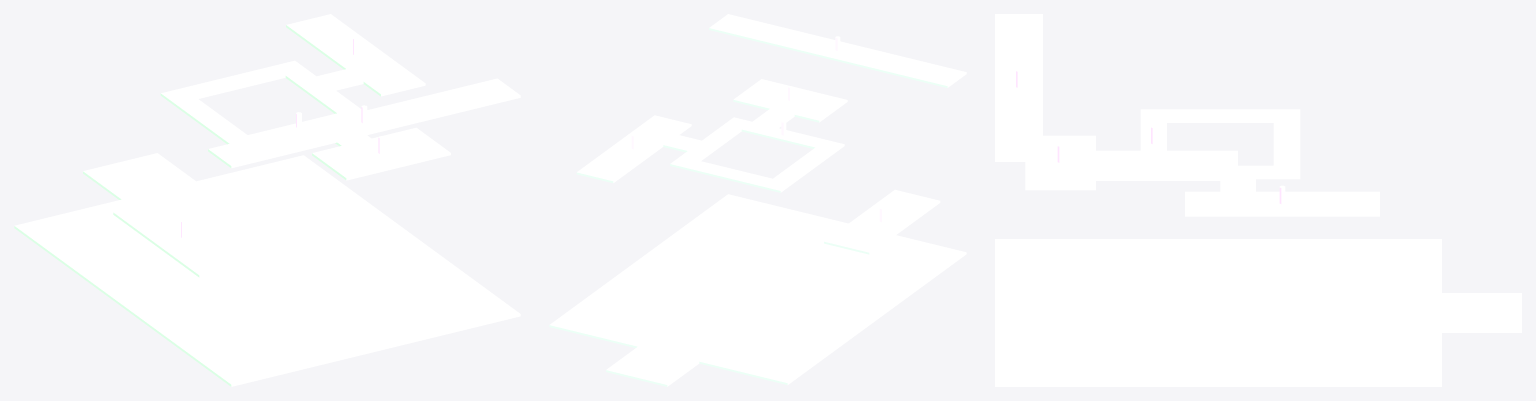
The model's file is hall_ov_regions.glb.
3 views of the same model, side by side, from view 1: azimuth 30°, elevation 25°; view 2: azimuth 150°, elevation 25°; view 3: azimuth 270°, elevation 25° (orthographic). The views are drawn at different scales.
Visible parts, largest first — view 1: hall_ov_regions; view 2: hall_ov_regions; view 3: hall_ov_regions.
Part boxes in pixels (bbox=[...]): hall_ov_regions: bbox=[14, 14, 520, 386]; hall_ov_regions: bbox=[549, 14, 966, 386]; hall_ov_regions: bbox=[995, 14, 1521, 386].
Size of the model in its own units: 38.8 by 30.3 by 59.4.
